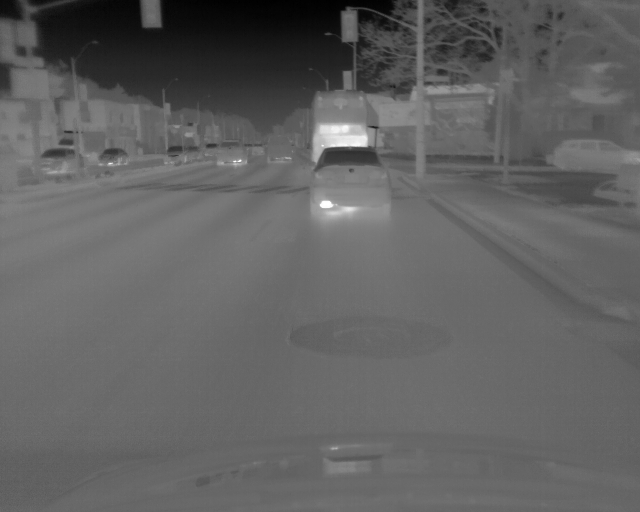car: (309, 145, 390, 217), (310, 88, 379, 147), (550, 138, 640, 175), (32, 148, 84, 180), (59, 130, 106, 155), (215, 140, 245, 166), (265, 139, 292, 164), (98, 149, 128, 167), (164, 145, 190, 165), (203, 141, 216, 158), (252, 143, 264, 156)
